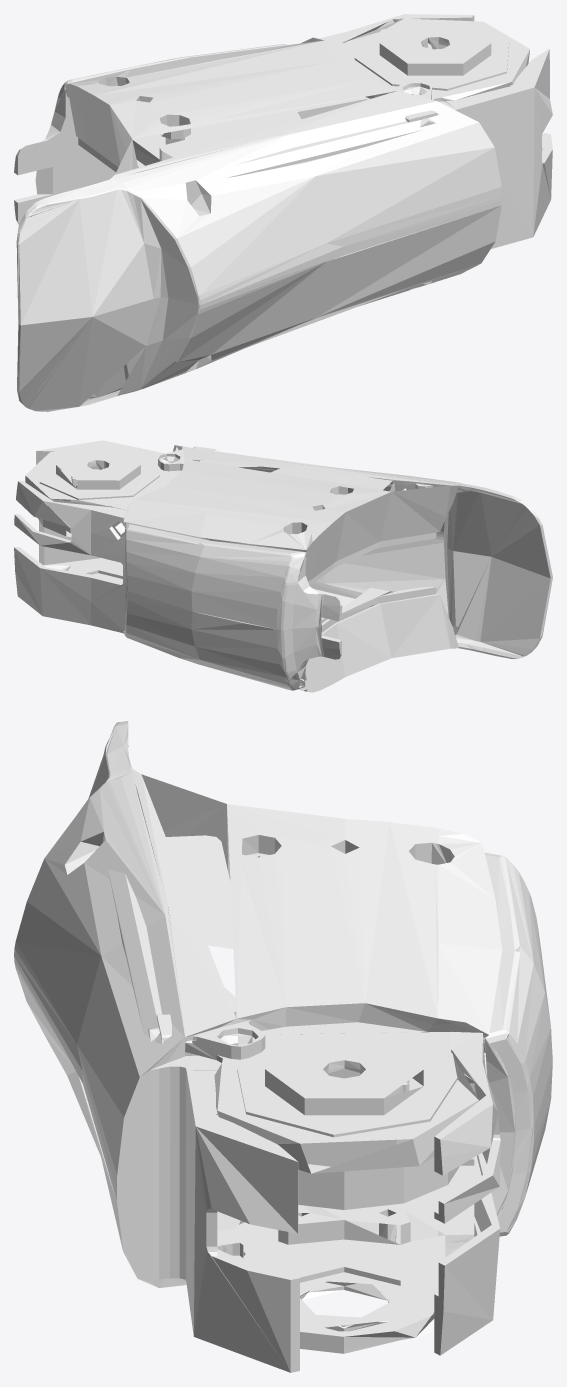
The model's file is hit-hand-2-finger-phaprox-rot.dae.
The picture shows the model from 3 angles, top to bottom: view 1: azimuth 30°, elevation 25°; view 2: azimuth 150°, elevation 25°; view 3: azimuth 270°, elevation 25°; orthographic projection. The views are drawn at different scales.
Visible parts, largest first — view 1: node; view 2: node; view 3: node.
Boxes of the visible parts, x1=… form: node: x1=14, y1=14, x2=552, y2=411; node: x1=14, y1=440, x2=552, y2=692; node: x1=14, y1=721, x2=552, y2=1372.
Size of the model in its own units: 0.0689 by 0.0239 by 0.0374.
1 material, 1 textured.
